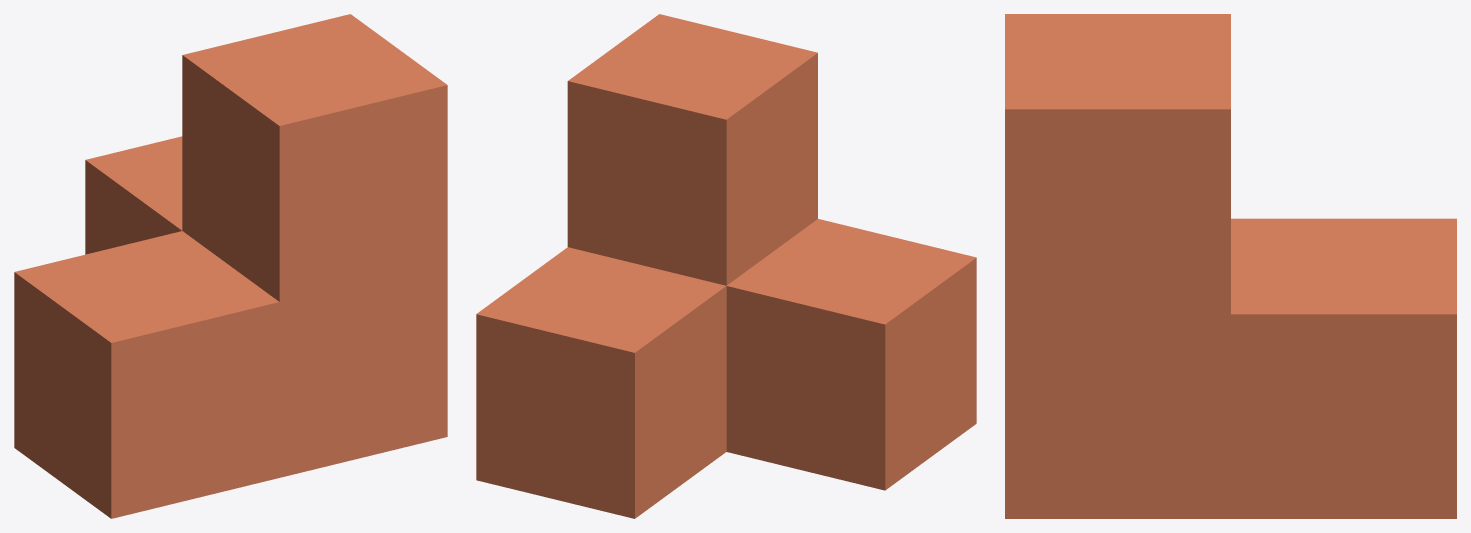
File: TestCorner.fbx
3 views of the same model, side by side, from view 1: azimuth 30°, elevation 25°; view 2: azimuth 150°, elevation 25°; view 3: azimuth 270°, elevation 25° (orthographic). The views are drawn at different scales.
Visible parts, largest first — view 1: Cube; view 2: Cube; view 3: Cube.
Boxes of the visible parts, x1=… form: Cube: x1=14, y1=14, x2=447, y2=518; Cube: x1=476, y1=14, x2=976, y2=518; Cube: x1=1005, y1=14, x2=1456, y2=518.
Bounding box in the file's own units: 100 × 100 × 100.
